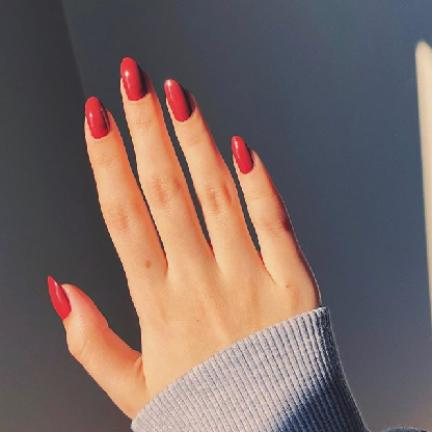Nail: (121, 57, 149, 101), (165, 79, 194, 121), (85, 97, 111, 139), (49, 277, 71, 319), (231, 136, 254, 173)
